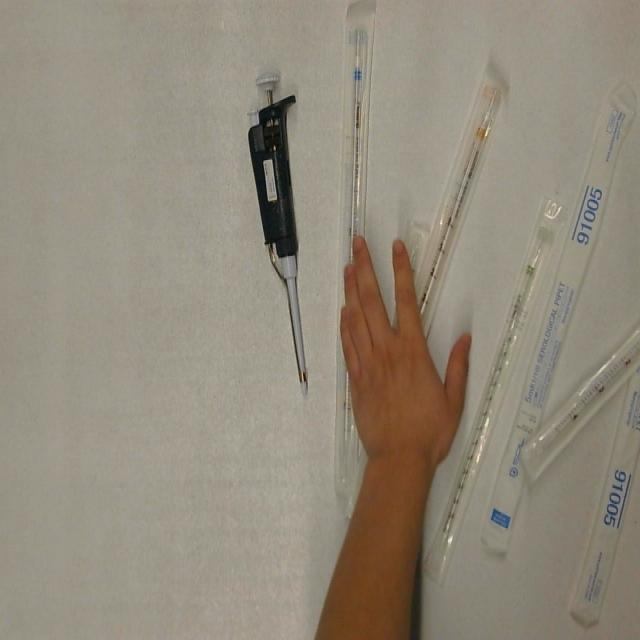Serelogical Pipet 10 mL - Sealed: (404, 55, 511, 350)
Serelogical Pipet 2 mL - Sealed: (419, 196, 570, 582)
Serelogical Pipet 5 mL - Sealed: (478, 89, 635, 557), (335, 0, 377, 515), (516, 313, 640, 487), (565, 361, 640, 626)
Single Channel Pipettor: (246, 62, 312, 400)
